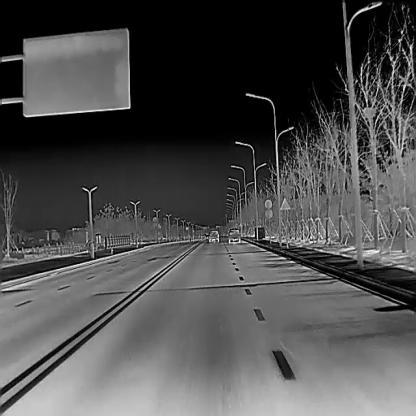car: (227, 227, 240, 243), (208, 229, 219, 242)
